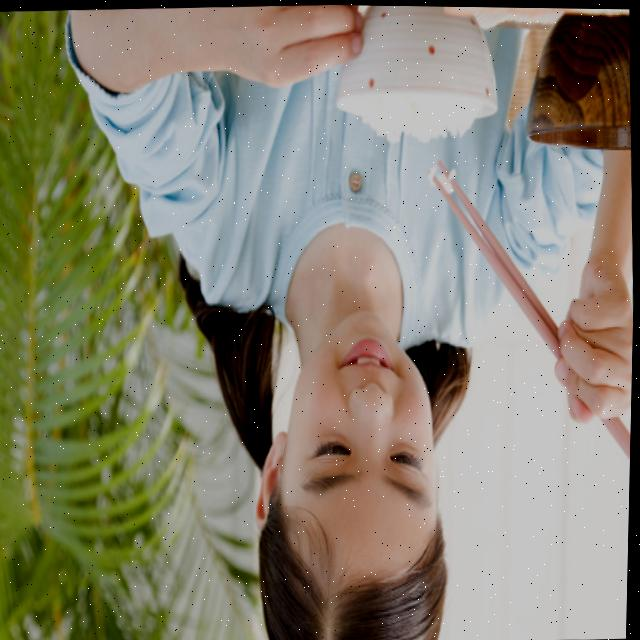eating-person: (65, 1, 640, 640)
